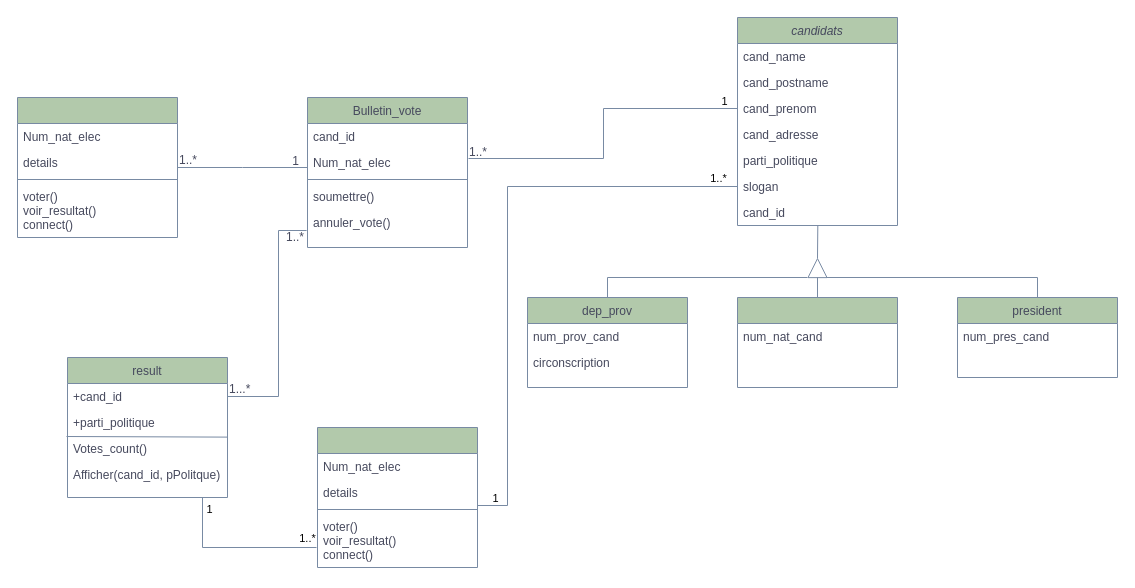
Image size: 1135x588. Some labels were removed from this diagram. Each missing label, with the box of its shape:
dep_nat: (736, 296, 898, 388)
Electeur: (16, 96, 178, 238)
Pr_bureauVote: (316, 426, 478, 568)
